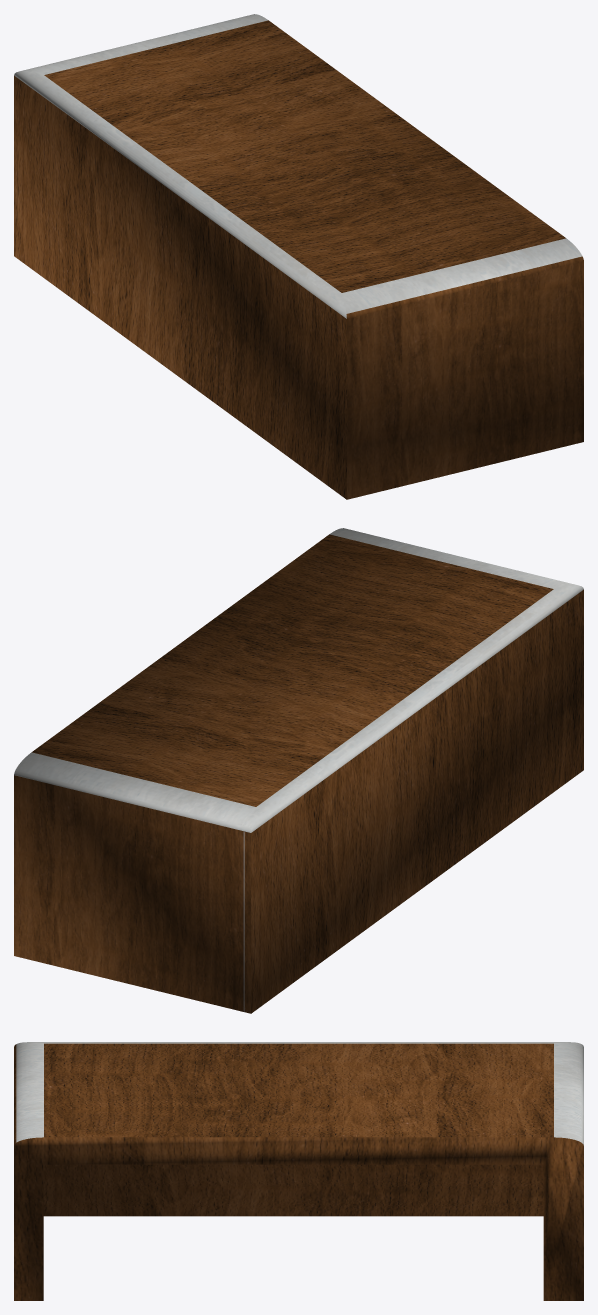
File: CashierCounter.fbx
The picture shows the model from 3 angles, top to bottom: view 1: azimuth 30°, elevation 25°; view 2: azimuth 150°, elevation 25°; view 3: azimuth 270°, elevation 25°; orthographic projection. The views are drawn at different scales.
Visible parts, largest first — view 1: GasStationCounter; view 2: GasStationCounter; view 3: GasStationCounter.
Part boxes in pixels (left/top/right/bottom): GasStationCounter: left=14, top=14, right=583, bottom=499; GasStationCounter: left=14, top=528, right=583, bottom=1013; GasStationCounter: left=14, top=1042, right=583, bottom=1300.
Size of the model in its own units: 121 by 92.67 by 293.
